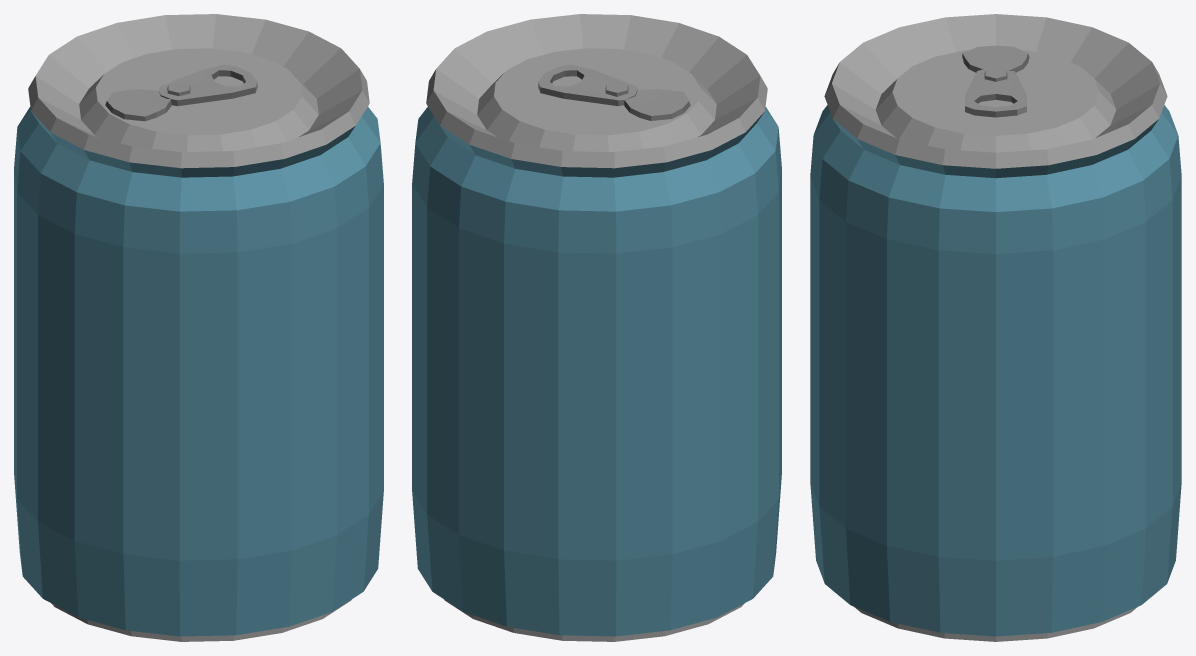
Rendered from Can_02.fbx.
3 views of the same model, side by side, from view 1: azimuth 30°, elevation 25°; view 2: azimuth 150°, elevation 25°; view 3: azimuth 270°, elevation 25° (orthographic).
Visible parts, largest first — view 1: Can_02; view 2: Can_02; view 3: Can_02.
Boxes of the visible parts, <box> form: Can_02: <box>14,14,383,641</box>; Can_02: <box>412,14,781,641</box>; Can_02: <box>810,14,1181,641</box>.
Bounding box in the file's own units: 9.52 × 13.81 × 9.52.
